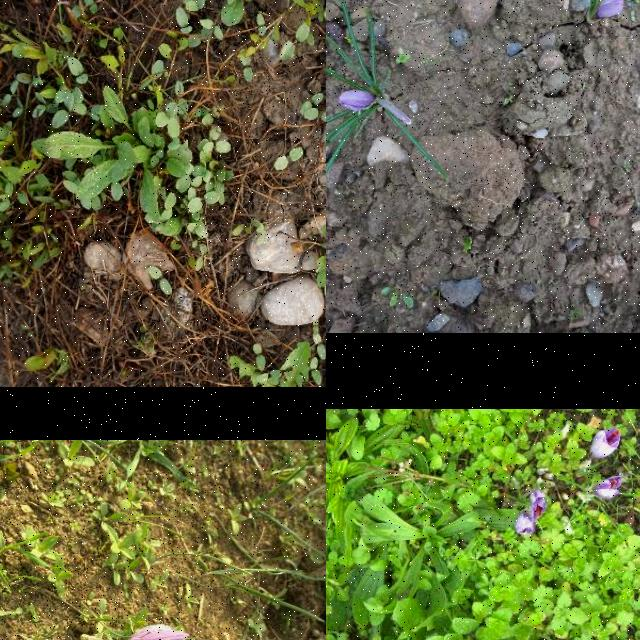flower: (122, 624, 189, 640), (592, 427, 622, 458), (337, 88, 373, 110), (595, 477, 621, 501), (598, 0, 624, 19), (516, 517, 536, 537), (532, 490, 546, 518)
